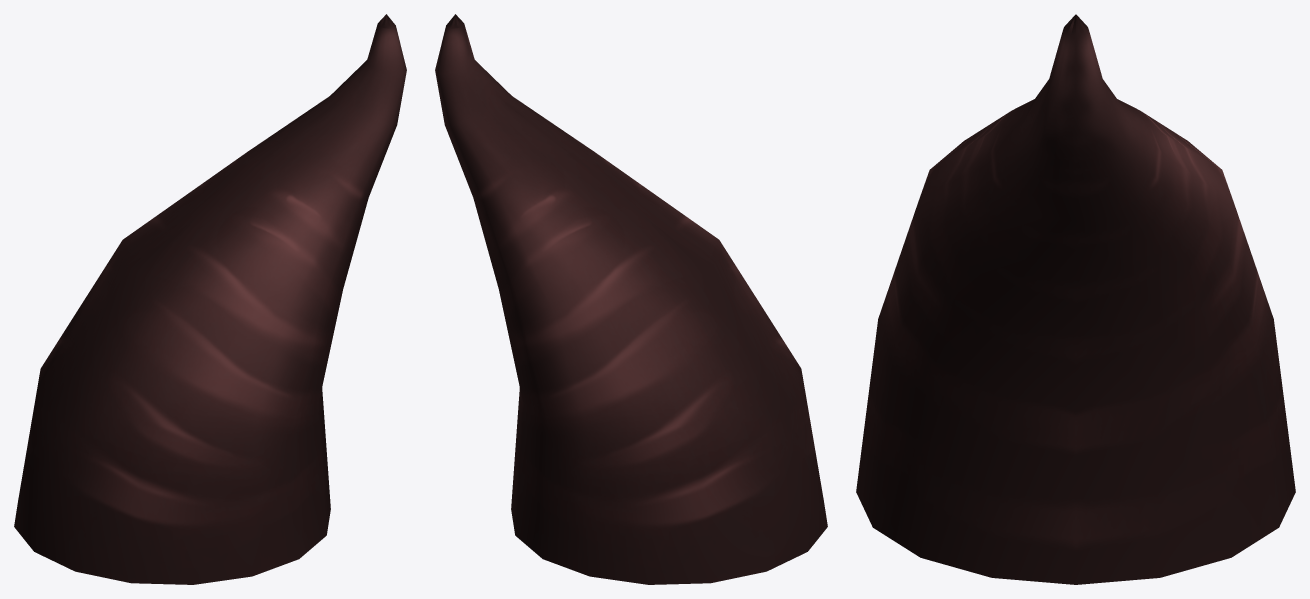
Rendered from dragonHorn.FBX.
3 views of the same model, side by side, from view 1: azimuth 30°, elevation 25°; view 2: azimuth 150°, elevation 25°; view 3: azimuth 270°, elevation 25° (orthographic). The views are drawn at different scales.
Parts seen in each view (by area): view 1: Object005; view 2: Object005; view 3: Object005.
Boxes of the visible parts, left/top/right/bottom form: Object005: left=14, top=14, right=406, bottom=584; Object005: left=435, top=14, right=827, bottom=584; Object005: left=856, top=14, right=1295, bottom=584.
Size of the model in its own units: 22.96 by 26.78 by 17.16.
Materials: 1 (1 with a texture image).
